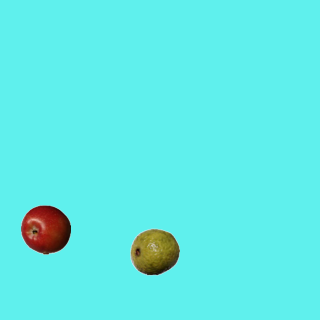Apple Braeburn: (20, 204, 70, 254)
Guava: (129, 226, 179, 276)
